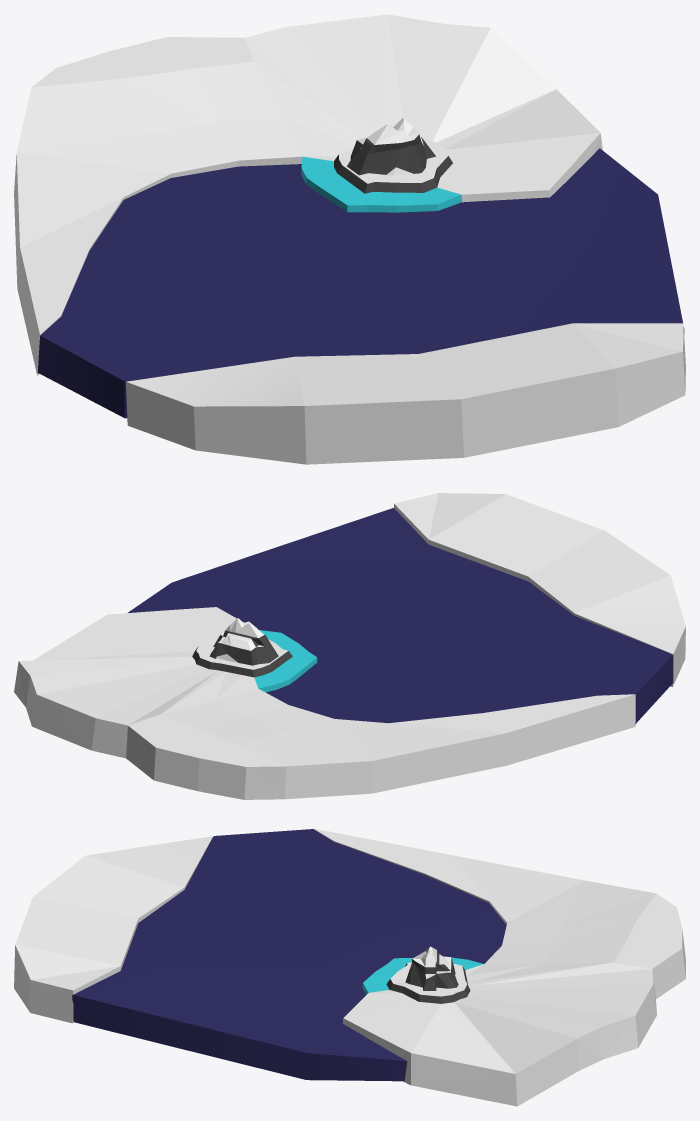
The model's file is mountain export.fbx.
3 renders of one model, top to bottom at view 1: azimuth 30°, elevation 25°; view 2: azimuth 150°, elevation 25°; view 3: azimuth 270°, elevation 25°, orthographic. The views are drawn at different scales.
Parts seen in each view (by area): view 1: Box001; view 2: Box001; view 3: Box001.
Part boxes in pixels (x1,y1,x2,y2): Box001: [14, 14, 685, 464]; Box001: [14, 493, 685, 799]; Box001: [14, 828, 685, 1106].
Bounding box in the file's own units: 858 × 133 × 1027.
